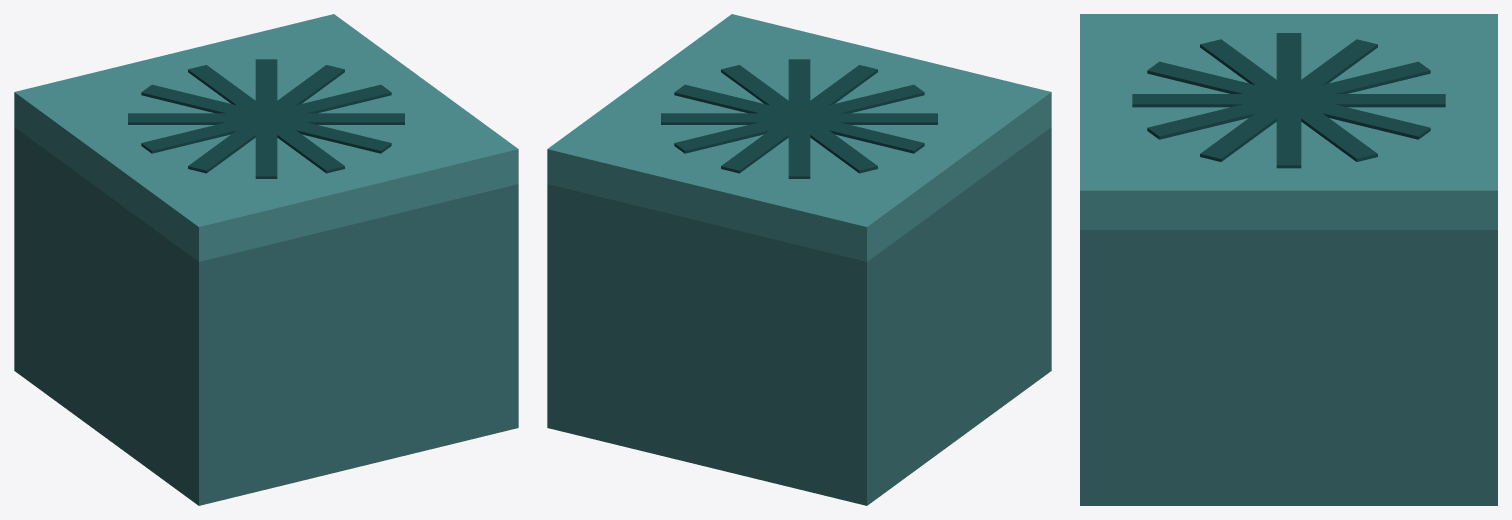
The model's file is altar_plinth.glb.
The picture shows the model from 3 angles, left to right: view 1: azimuth 30°, elevation 25°; view 2: azimuth 150°, elevation 25°; view 3: azimuth 270°, elevation 25°; orthographic projection. The views are drawn at different scales.
Visible parts, largest first — view 1: altar_plinth; view 2: altar_plinth; view 3: altar_plinth.
Part boxes in pixels (bbox=[...]): altar_plinth: bbox=[14, 14, 518, 505]; altar_plinth: bbox=[547, 14, 1051, 505]; altar_plinth: bbox=[1080, 14, 1497, 505].
Bounding box in the file's own units: 1.2 × 1.01 × 1.2.
